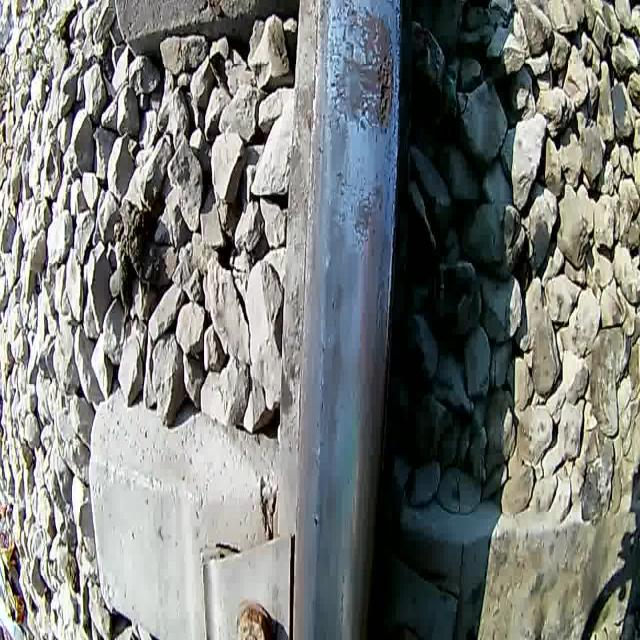Spallings: (373, 48, 397, 138)
Squats: (316, 0, 402, 149), (328, 160, 390, 267)
